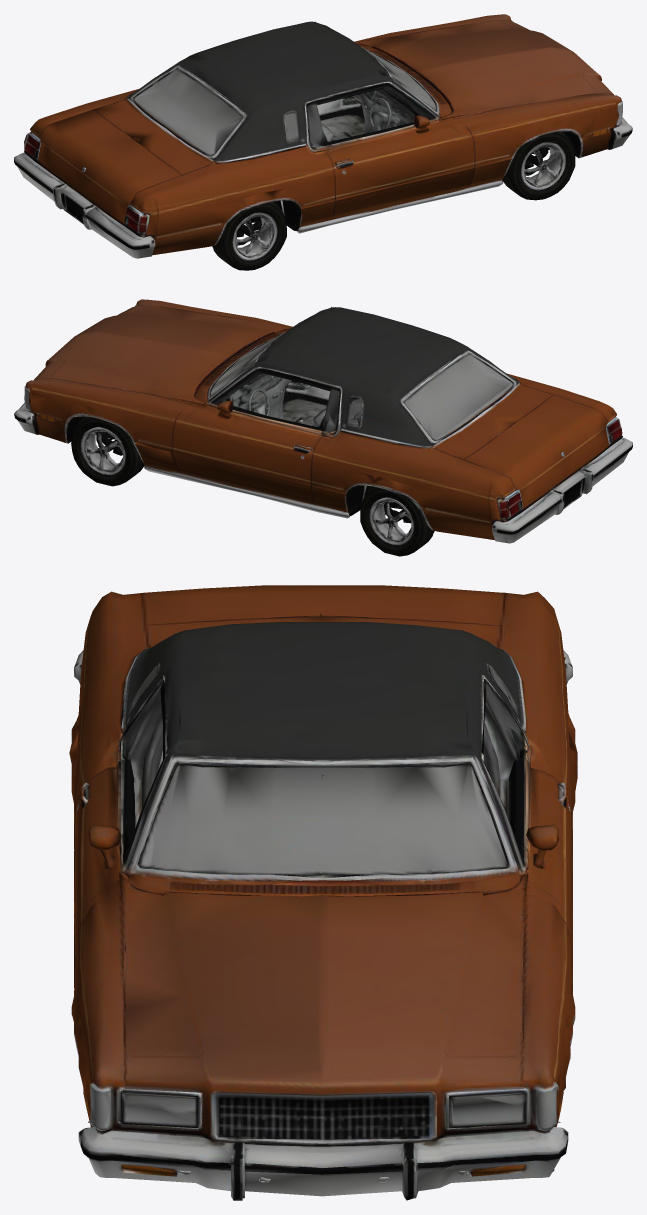
The model's file is car-3.glb.
The picture shows the model from 3 angles, top to bottom: view 1: azimuth 30°, elevation 25°; view 2: azimuth 150°, elevation 25°; view 3: azimuth 270°, elevation 25°; orthographic projection. The views are drawn at different scales.
Parts seen in each view (by area): view 1: tripo_node_07c1c2cf-f232-4bf4-9a65-20a46ecca9e5; view 2: tripo_node_07c1c2cf-f232-4bf4-9a65-20a46ecca9e5; view 3: tripo_node_07c1c2cf-f232-4bf4-9a65-20a46ecca9e5.
Part boxes in pixels (left/top/right/bottom): tripo_node_07c1c2cf-f232-4bf4-9a65-20a46ecca9e5: left=14, top=14, right=632, bottom=270; tripo_node_07c1c2cf-f232-4bf4-9a65-20a46ecca9e5: left=14, top=299, right=632, bottom=556; tripo_node_07c1c2cf-f232-4bf4-9a65-20a46ecca9e5: left=69, top=585, right=577, bottom=1200.
Bounding box in the file's own units: 5.44 × 1.5 × 2.31.
1 material, 1 textured.
